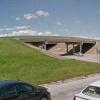Bridge: (11, 23, 97, 60)
